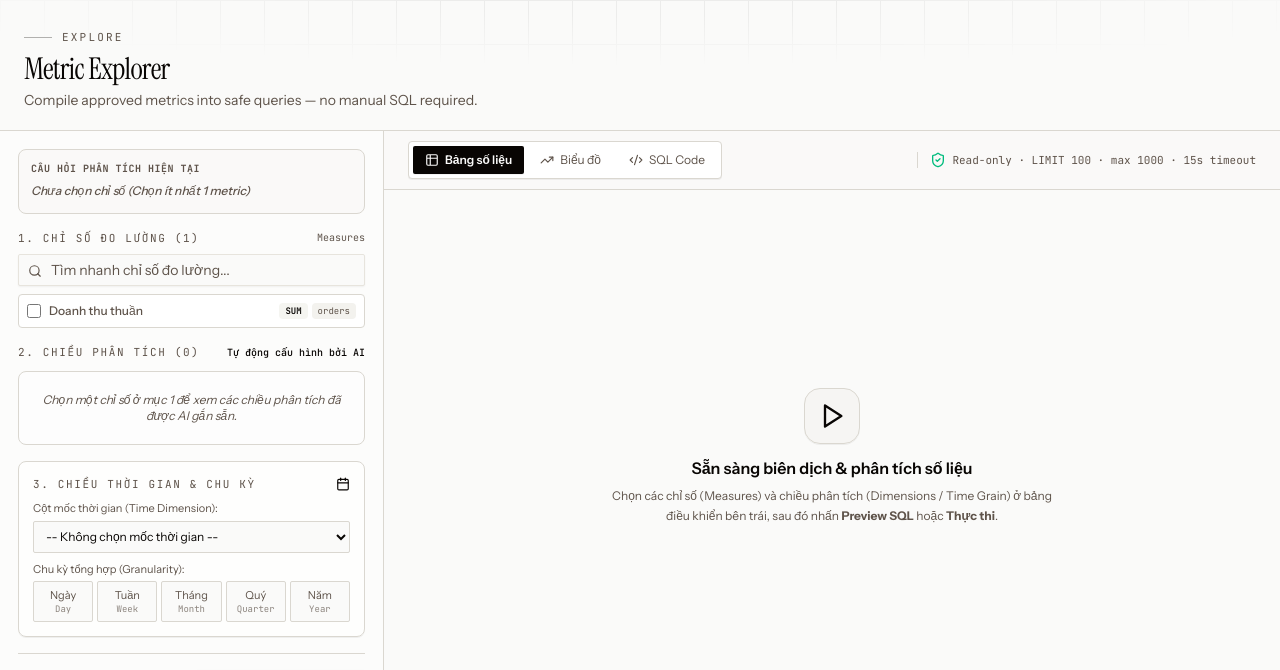
it: MetricExplorerView › automatically applies metric-defined dimensions upon selection
This screenshot has width=1280, height=670.
Note: Select metric first
Click the checkbox labelled "Doanh thu thuần SUM orders": point(34, 311) [27,304,41,318]
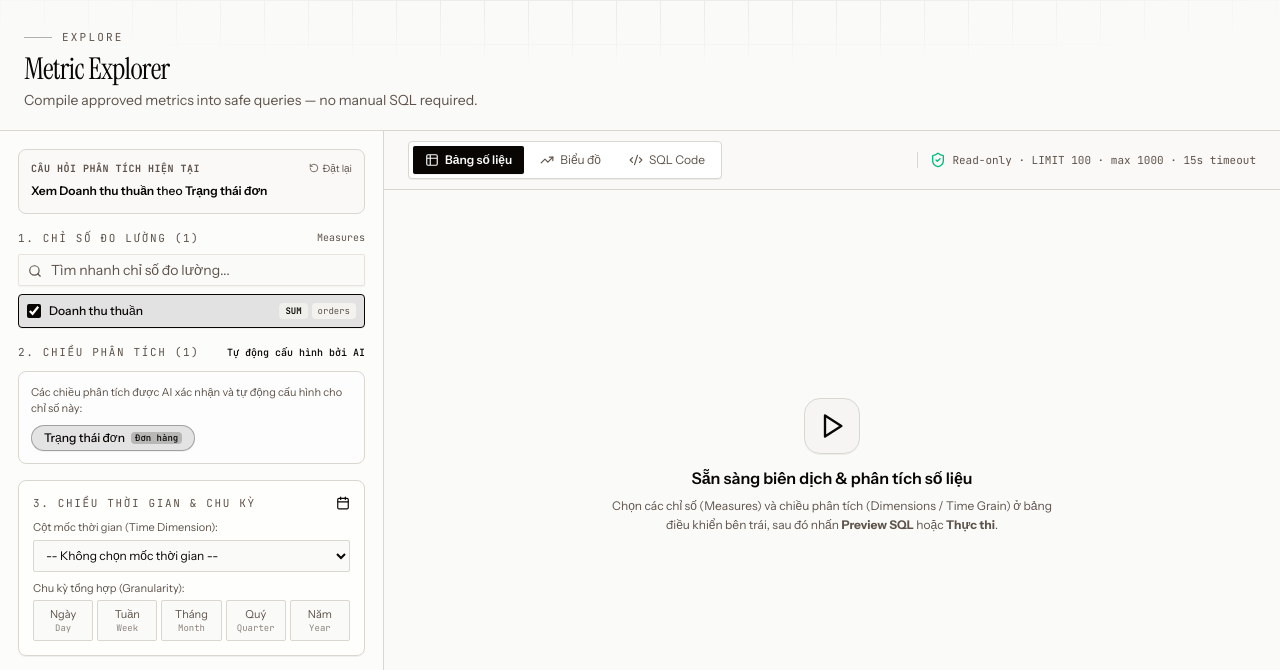
Expected: the text "Trạng thái đơn" next to "theo" is shown, [185,183,267,198]
